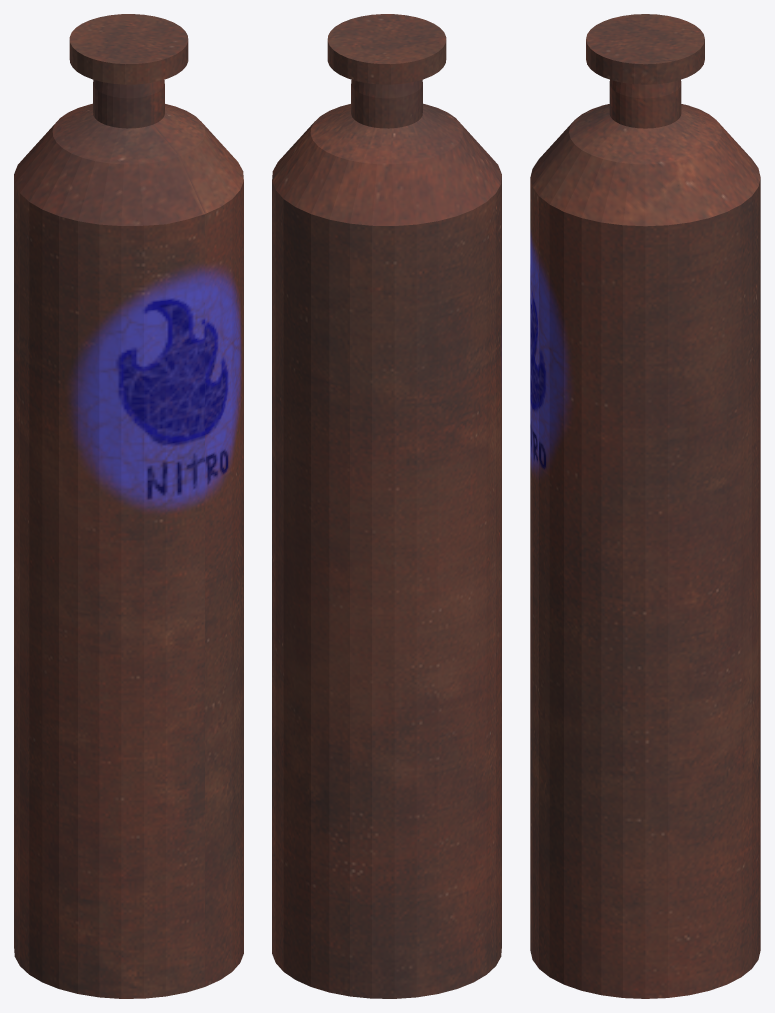
Rendered from Nitro.glb.
3 renders of one model, left to right at view 1: azimuth 30°, elevation 25°; view 2: azimuth 150°, elevation 25°; view 3: azimuth 270°, elevation 25°, orthographic.
Visible parts, largest first — view 1: Cylinder.001; view 2: Cylinder.001; view 3: Cylinder.001.
Part boxes in pixels (<box>): Cylinder.001: <box>14,14,243,998</box>; Cylinder.001: <box>272,14,501,998</box>; Cylinder.001: <box>530,14,760,998</box>.
Bounding box in the file's own units: 0.4452 × 1.94 × 0.4452.
1 material, 1 textured.
